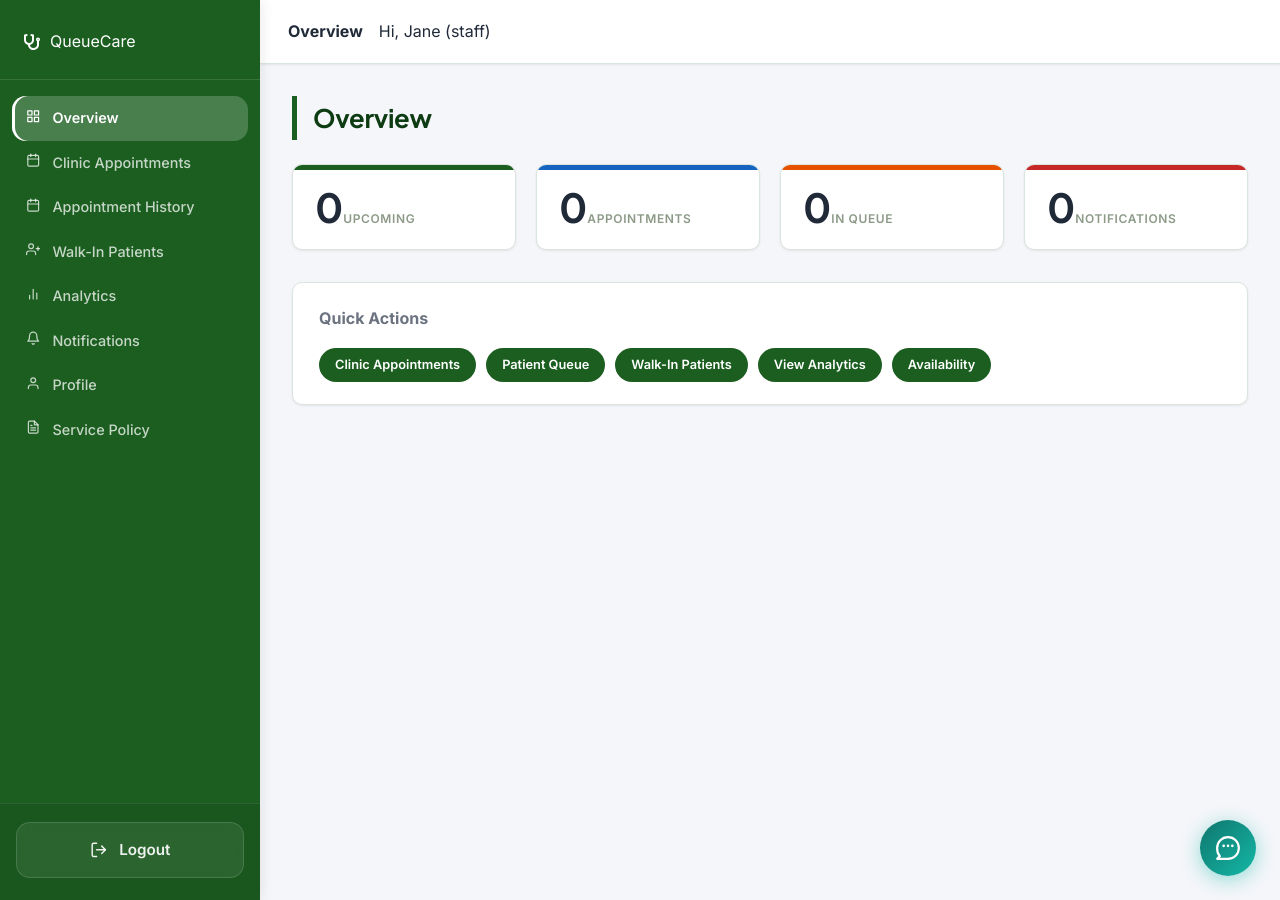
Test: Clicked Notifications › renders Notifications on topbar
The width and height of the screenshot is (1280, 900).
What coordinates should you click on to do the following:
click the button "Notifications"
I would click on:
 (130, 341)
Its box is [12,319,248,363].
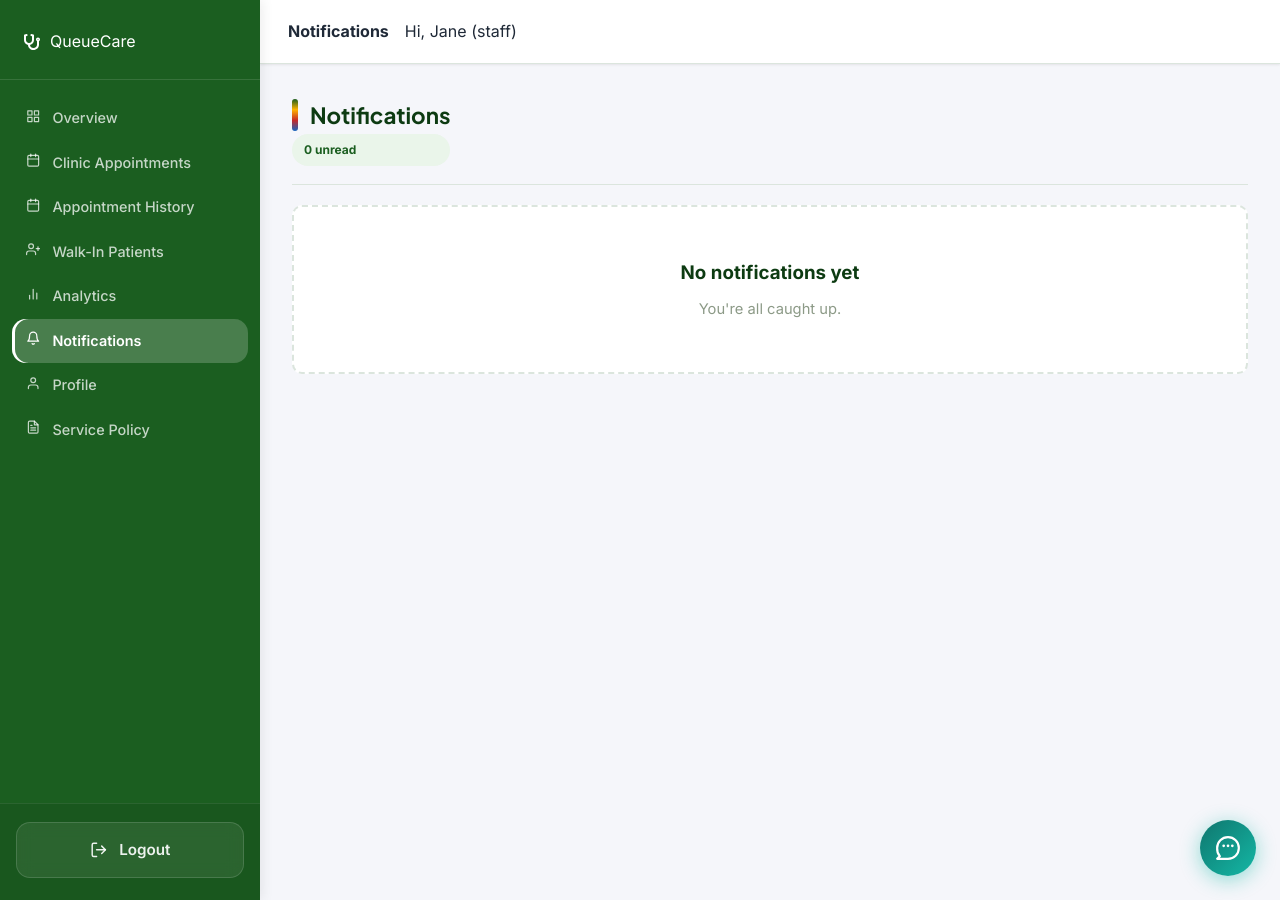
Now the heading "Notifications" next to "Hi," is shown, box [288,21,389,41]
